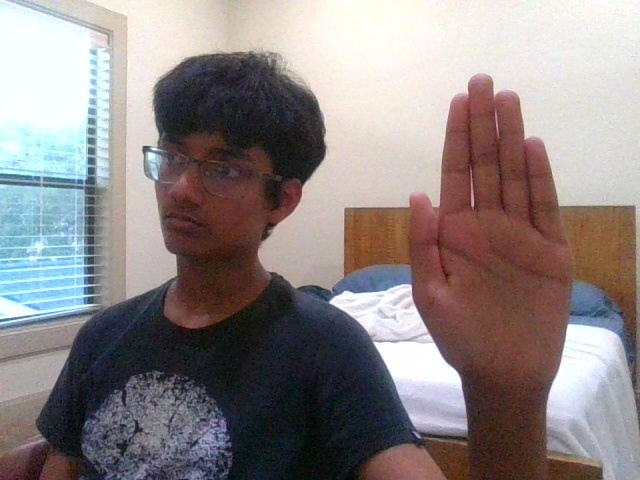hello: (408, 73, 573, 376)
